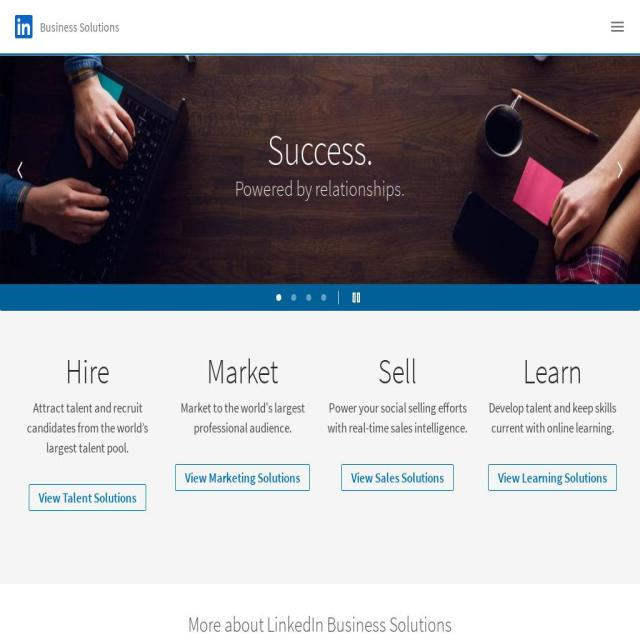button: (9, 8, 126, 45), (175, 464, 310, 491), (488, 464, 617, 491), (29, 484, 146, 511), (341, 464, 454, 491), (604, 8, 631, 45), (10, 156, 30, 183), (610, 156, 630, 183), (348, 286, 364, 308), (276, 293, 282, 301), (306, 293, 312, 301), (292, 293, 296, 301), (322, 293, 326, 301)
heading: (58, 611, 582, 637)
image: (0, 55, 640, 284), (547, 55, 640, 284), (15, 15, 36, 38), (12, 159, 28, 180), (612, 159, 628, 180), (610, 16, 625, 36), (352, 290, 366, 311)
text: (0, 311, 640, 584), (119, 124, 521, 175), (119, 174, 521, 202), (15, 398, 160, 458), (15, 351, 160, 391), (170, 351, 315, 391), (170, 398, 315, 438), (325, 351, 470, 391), (325, 398, 470, 438), (480, 351, 625, 391), (480, 398, 625, 438), (32, 18, 120, 35), (18, 15, 32, 35)
